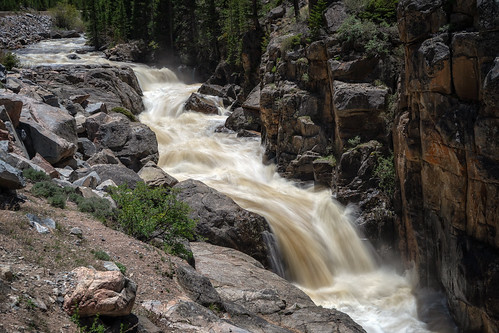rocks: (4, 47, 278, 333), (204, 13, 499, 192)
waterfall: (121, 48, 449, 333)
